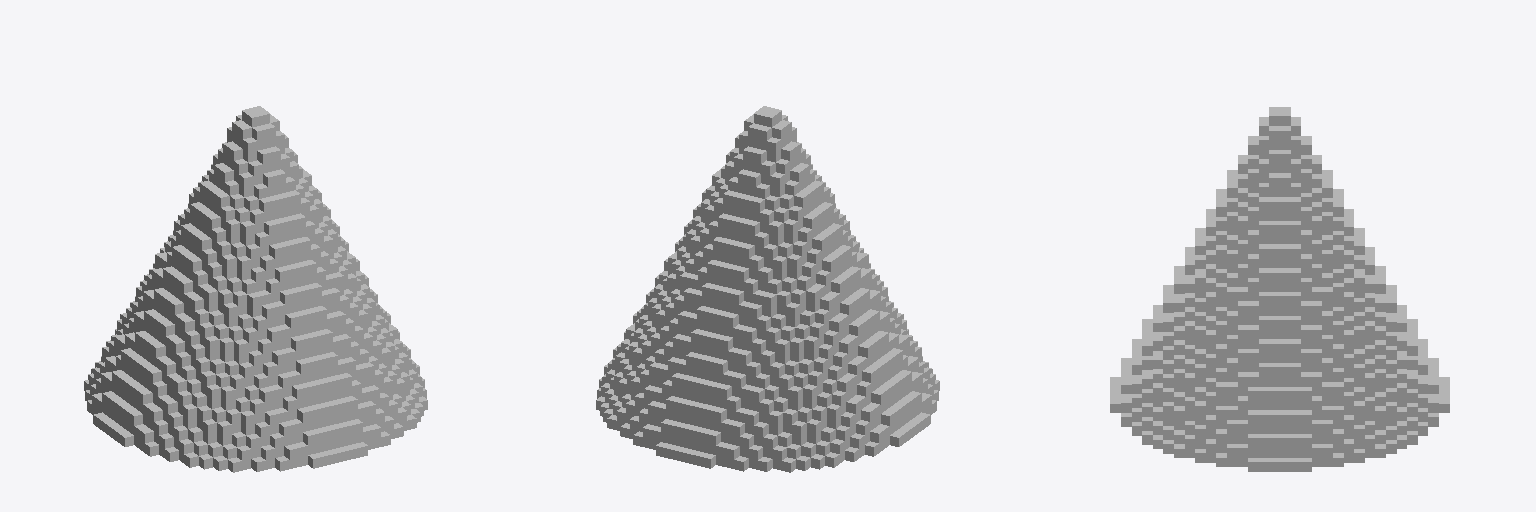
Rendered from areia.obj.
The picture shows the model from 3 angles: view 1: azimuth 30°, elevation 25°; view 2: azimuth 150°, elevation 25°; view 3: azimuth 270°, elevation 25°; orthographic projection.
Parts seen in each view (by area): view 1: areia; view 2: areia; view 3: areia.
Part boxes in pixels (x1,y1,x2,y2): areia: (84,106,427,472); areia: (596,106,939,472); areia: (1110,107,1449,471).
Bounding box in the file's own units: 32 × 30 × 32.